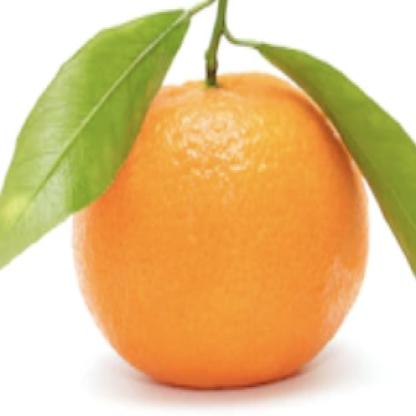fresh: (70, 66, 371, 393)
